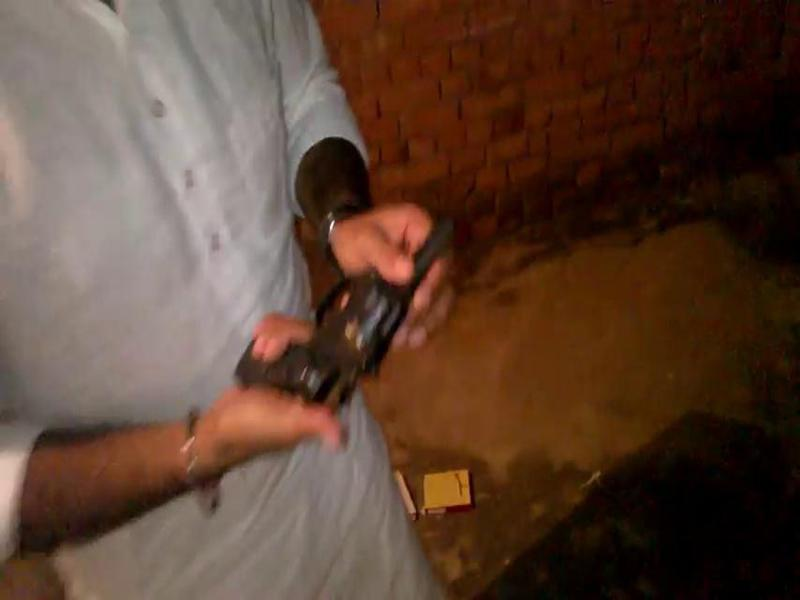Revolver: (226, 204, 472, 409)
